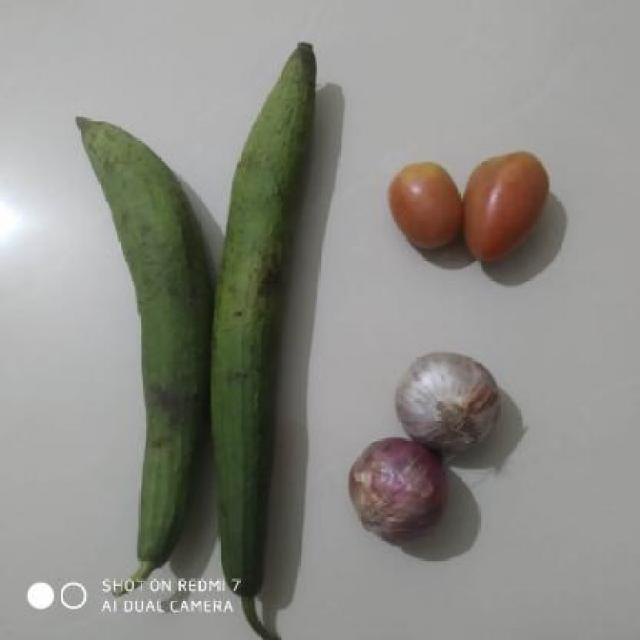Onion: (338, 436, 458, 544), (392, 344, 505, 456)
Sponge Gourd: (68, 108, 216, 572), (216, 34, 330, 623)
Tomato: (460, 149, 556, 269), (383, 148, 468, 262)
